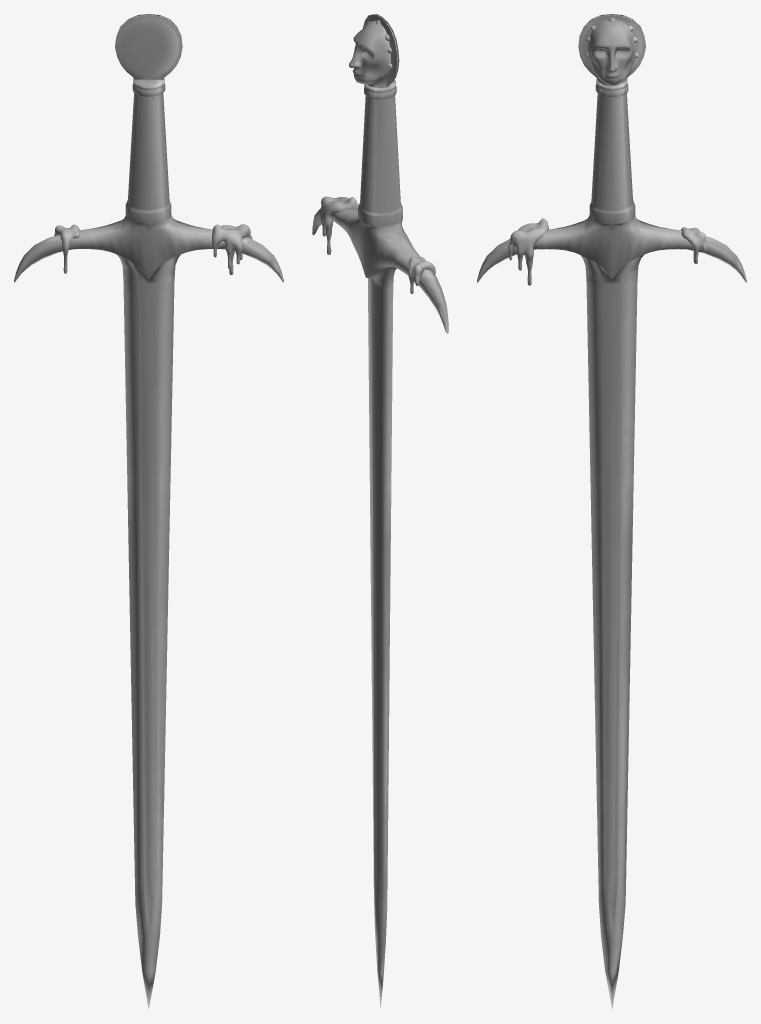
The model's file is boss_sword.glb.
3 renders of one model, left to right at view 1: azimuth 90°, elevation 25°; view 2: azimuth 210°, elevation 25°; view 3: azimuth 270°, elevation 25°, orthographic.
Parts seen in each view (by area): view 1: tripo_node_92272ce7-6d91-4119-8362-7203a7ec96d4; view 2: tripo_node_92272ce7-6d91-4119-8362-7203a7ec96d4; view 3: tripo_node_92272ce7-6d91-4119-8362-7203a7ec96d4.
Boxes of the visible parts, box(x1,y1,x2,y2) form: tripo_node_92272ce7-6d91-4119-8362-7203a7ec96d4: box(14, 14, 283, 1008); tripo_node_92272ce7-6d91-4119-8362-7203a7ec96d4: box(312, 14, 448, 1007); tripo_node_92272ce7-6d91-4119-8362-7203a7ec96d4: box(477, 14, 746, 1008).
Size of the model in its own units: 0.0532 by 0.9995 by 0.2456.
1 material, 1 textured.
